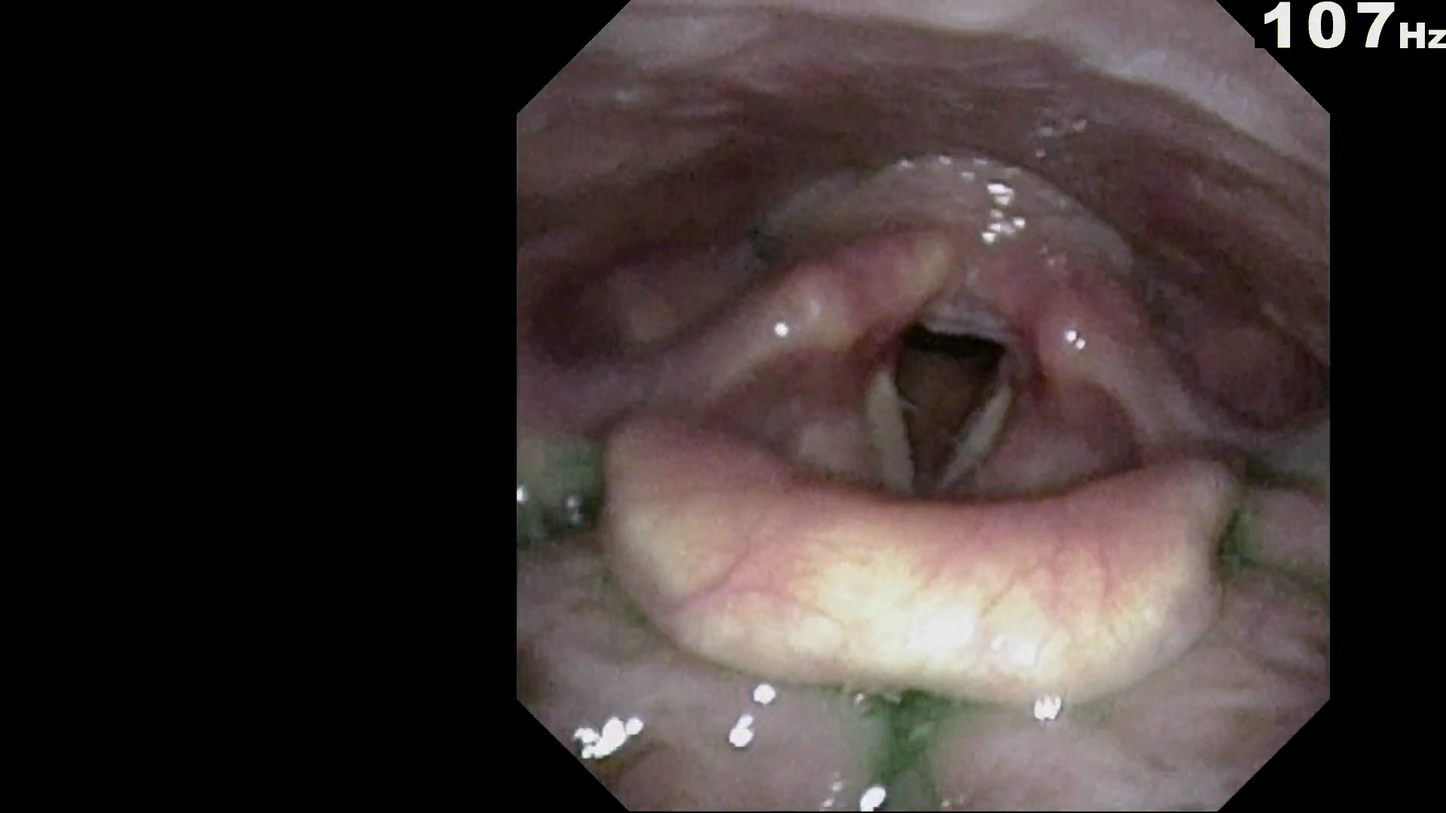epiglottis: (579, 395, 1271, 690), (602, 489, 1226, 761)
trachea: (880, 309, 1015, 506)
